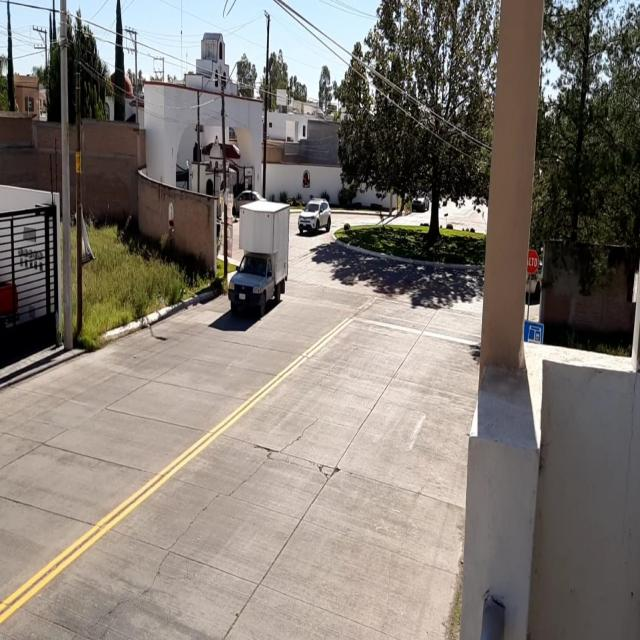Auto: (298, 197, 331, 235)
